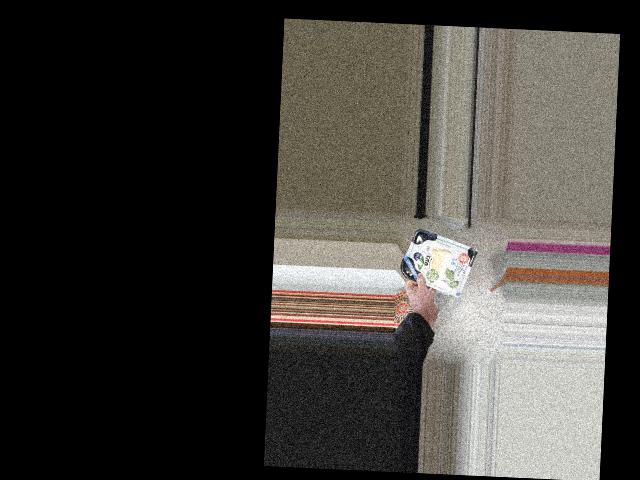cheese: (406, 237, 469, 287)
